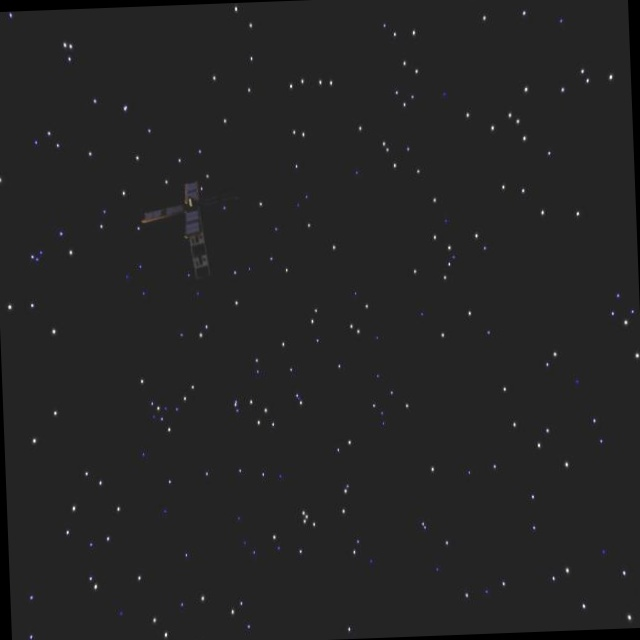medium_debris: (133, 175, 230, 287)
